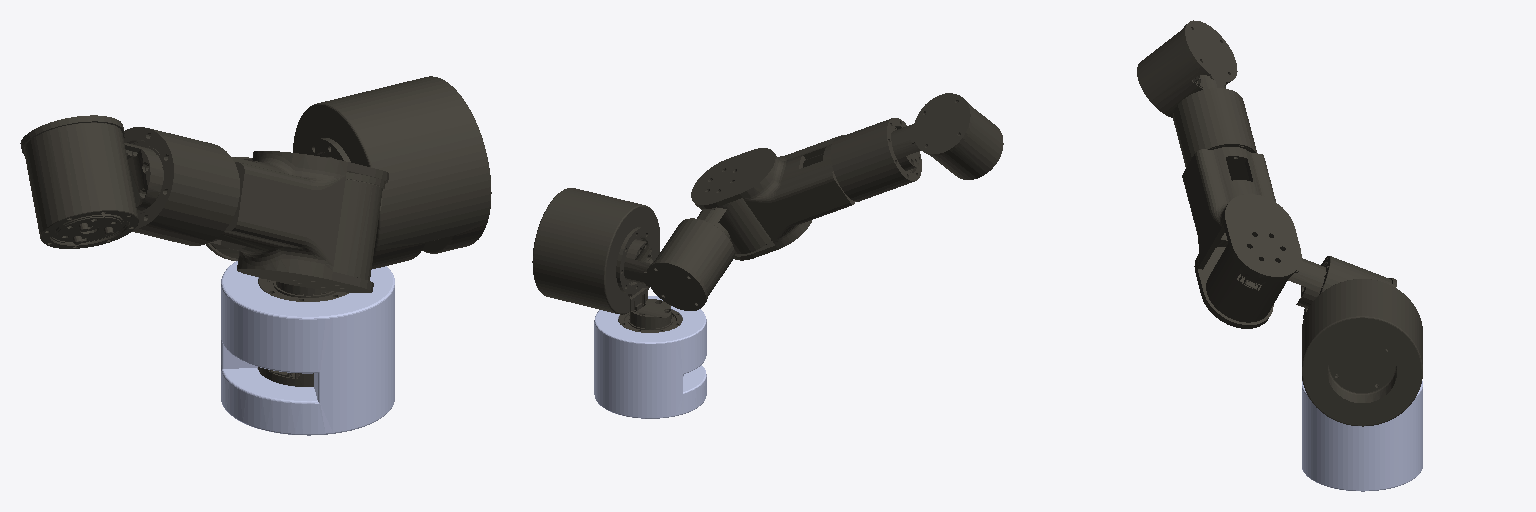
The robot description file, URDF, robot "arm_urdf":
<?xml version="1.0" encoding="utf-8"?>
<!-- This URDF was automatically created by SolidWorks to URDF Exporter! Originally created by Stephen Brawner (brawner@gmail.com) 
     Commit Version: 1.6.0-4-g7f85cfe  Build Version: 1.6.7995.38578
     For more information, please see http://wiki.ros.org/sw_urdf_exporter -->
<robot
  name="arm_urdf">
  <link
    name="base_link">
    <inertial>
      <origin
        xyz="0.00165237880691796 0.000653236412099384 0.0140338323066459"
        rpy="0 0 0" />
      <mass
        value="0.192076018150614" />
      <inertia
        ixx="0.000164377546633951"
        ixy="2.93419490444159E-06"
        ixz="1.80426013043874E-06"
        iyy="0.000158115404846357"
        iyz="7.13271978257934E-07"
        izz="0.00020177724103766" />
    </inertial>
    <visual>
      <origin
        xyz="0 0 0"
        rpy="0 0 0" />
      <geometry>
        <mesh
          filename="package://arm_urdf/meshes/base_link.STL" />
      </geometry>
      <material
        name="">
        <color
          rgba="0.792156862745098 0.819607843137255 0.933333333333333 1" />
      </material>
    </visual>
    <collision>
      <origin
        xyz="0 0 0"
        rpy="0 0 0" />
      <geometry>
        <mesh
          filename="package://arm_urdf/meshes/base_link.STL" />
      </geometry>
    </collision>
  </link>
  <link
    name="Link1">
    <inertial>
      <origin
        xyz="0.0375506240193476 0.000364828195735439 0.0959634343875544"
        rpy="0 0 0" />
      <mass
        value="0.228387283347503" />
      <inertia
        ixx="0.000216893502309988"
        ixy="-4.88857032629495E-07"
        ixz="-2.65541612913788E-06"
        iyy="0.000172346878866004"
        iyz="2.04673937915496E-06"
        izz="0.000176121251811701" />
    </inertial>
    <visual>
      <origin
        xyz="0 0 0"
        rpy="0 0 0" />
      <geometry>
        <mesh
          filename="package://arm_urdf/meshes/Link1.STL" />
      </geometry>
      <material
        name="">
        <color
          rgba="0.301960784313725 0.290196078431373 0.262745098039216 1" />
      </material>
    </visual>
    <collision>
      <origin
        xyz="0 0 0"
        rpy="0 0 0" />
      <geometry>
        <mesh
          filename="package://arm_urdf/meshes/Link1.STL" />
      </geometry>
    </collision>
  </link>
  <joint
    name="jiont1"
    type="revolute">
    <origin
      xyz="0 0 -0.016"
      rpy="0 0 0" />
    <parent
      link="base_link" />
    <child
      link="Link1" />
    <axis
      xyz="0 0 1" />
    <limit
      lower="-3.14"
      upper="3.14"
      effort="0"
      velocity="0" />
  </joint>
  <link
    name="Link2">
    <inertial>
      <origin
        xyz="0.000889556135252614 -0.00183805777823758 0.0367626591036705"
        rpy="0 0 0" />
      <mass
        value="0.0395784994595645" />
      <inertia
        ixx="1.68401206286516E-05"
        ixy="-1.52726862889466E-07"
        ixz="-3.99643549913033E-07"
        iyy="1.71532185704624E-05"
        iyz="1.10289064164758E-06"
        izz="1.15293056271301E-05" />
    </inertial>
    <visual>
      <origin
        xyz="0 0 0"
        rpy="0 0 0" />
      <geometry>
        <mesh
          filename="package://arm_urdf/meshes/Link2.STL" />
      </geometry>
      <material
        name="">
        <color
          rgba="0.301960784313725 0.290196078431373 0.262745098039216 1" />
      </material>
    </visual>
    <collision>
      <origin
        xyz="0 0 0"
        rpy="0 0 0" />
      <geometry>
        <mesh
          filename="package://arm_urdf/meshes/Link2.STL" />
      </geometry>
    </collision>
  </link>
  <joint
    name="joint2"
    type="revolute">
    <origin
      xyz="0.0585 0 0.10325"
      rpy="3.1416 1.5708 0" />
    <parent
      link="Link1" />
    <child
      link="Link2" />
    <axis
      xyz="0 0 -1" />
    <limit
      lower="-3.14"
      upper="3.14"
      effort="0"
      velocity="0" />
  </joint>
  <link
    name="Link3">
    <inertial>
      <origin
        xyz="0.0019539017454888 -5.38647109620399E-05 0.0367626304930365"
        rpy="0 0 0" />
      <mass
        value="0.0395784475416132" />
      <inertia
        ixx="1.71995639997688E-05"
        ixy="-3.05931783938438E-09"
        ixz="-1.22000157839919E-06"
        iyy="1.67937509147446E-05"
        iyz="-3.36844379745023E-08"
        izz="1.15292960295111E-05" />
    </inertial>
    <visual>
      <origin
        xyz="0 0 0"
        rpy="0 0 0" />
      <geometry>
        <mesh
          filename="package://arm_urdf/meshes/Link3.STL" />
      </geometry>
      <material
        name="">
        <color
          rgba="0.301960784313725 0.290196078431373 0.262745098039216 1" />
      </material>
    </visual>
    <collision>
      <origin
        xyz="0 0 0"
        rpy="0 0 0" />
      <geometry>
        <mesh
          filename="package://arm_urdf/meshes/Link3.STL" />
      </geometry>
    </collision>
  </link>
  <joint
    name="joint3"
    type="revolute">
    <origin
      xyz="0.0044805 -0.010591 0.087253"
      rpy="1.5708 0.37647 -2.7414" />
    <parent
      link="Link2" />
    <child
      link="Link3" />
    <axis
      xyz="0 0 -1" />
    <limit
      lower="-3.14"
      upper="3.14"
      effort="0"
      velocity="0" />
  </joint>
  <link
    name="Link4">
    <inertial>
      <origin
        xyz="-0.0363476210360283 2.07744264722198E-05 0.0218296169855355"
        rpy="0 0 0" />
      <mass
        value="0.102586319253978" />
      <inertia
        ixx="5.60340448159623E-05"
        ixy="-3.13867434866366E-09"
        ixz="5.18318700326504E-08"
        iyy="9.879905254637E-05"
        iyz="3.3605231112231E-08"
        izz="9.26016951462404E-05" />
    </inertial>
    <visual>
      <origin
        xyz="0 0 0"
        rpy="0 0 0" />
      <geometry>
        <mesh
          filename="package://arm_urdf/meshes/Link4.STL" />
      </geometry>
      <material
        name="">
        <color
          rgba="0.301960784313725 0.290196078431373 0.262745098039216 1" />
      </material>
    </visual>
    <collision>
      <origin
        xyz="0 0 0"
        rpy="0 0 0" />
      <geometry>
        <mesh
          filename="package://arm_urdf/meshes/Link4.STL" />
      </geometry>
    </collision>
  </link>
  <joint
    name="joint4"
    type="revolute">
    <origin
      xyz="0.0115 0 0.087253"
      rpy="1.5708 0.37626 -1.5708" />
    <parent
      link="Link3" />
    <child
      link="Link4" />
    <axis
      xyz="0 0 -1" />
    <limit
      lower="-3.14"
      upper="3.14"
      effort="0"
      velocity="0" />
  </joint>
  <link
    name="Link5">
    <inertial>
      <origin
        xyz="0.00195392305181297 -5.39016601637243E-05 0.0367625910939153"
        rpy="0 0 0" />
      <mass
        value="0.0395783821869079" />
      <inertia
        ixx="1.71995654875121E-05"
        ixy="-3.08428678491661E-09"
        ixz="-1.21999326526102E-06"
        iyy="1.67937221299546E-05"
        iyz="-3.37009672912755E-08"
        izz="1.15292796455694E-05" />
    </inertial>
    <visual>
      <origin
        xyz="0 0 0"
        rpy="0 0 0" />
      <geometry>
        <mesh
          filename="package://arm_urdf/meshes/Link5.STL" />
      </geometry>
      <material
        name="">
        <color
          rgba="0.301960784313725 0.290196078431373 0.262745098039216 1" />
      </material>
    </visual>
    <collision>
      <origin
        xyz="0 0 0"
        rpy="0 0 0" />
      <geometry>
        <mesh
          filename="package://arm_urdf/meshes/Link5.STL" />
      </geometry>
    </collision>
  </link>
  <joint
    name="joint5"
    type="revolute">
    <origin
      xyz="-0.0899999999980462 0 0.0204999999959265"
      rpy="1.5707963267949 1.1618634120559 -1.57079632679489" />
    <parent
      link="Link4" />
    <child
      link="Link5" />
    <axis
      xyz="0 0 1" />
    <limit
      lower="-3.14"
      upper="3.14"
      effort="0"
      velocity="0" />
  </joint>
  <link
    name="Link6">
    <inertial>
      <origin
        xyz="-0.000104407240438059 -9.41948890727309E-05 0.0251944930913252"
        rpy="0 0 0" />
      <mass
        value="0.0290550461188644" />
      <inertia
        ixx="1.15132217412787E-05"
        ixy="-6.03219682385138E-09"
        ixz="-4.47079285606331E-08"
        iyy="1.15272192627163E-05"
        iyz="-4.26187441641411E-08"
        izz="9.8267030846922E-06" />
    </inertial>
    <visual>
      <origin
        xyz="0 0 0"
        rpy="0 0 0" />
      <geometry>
        <mesh
          filename="package://arm_urdf/meshes/Link6.STL" />
      </geometry>
      <material
        name="">
        <color
          rgba="0.301960784313725 0.290196078431373 0.262745098039216 1" />
      </material>
    </visual>
    <collision>
      <origin
        xyz="0 0 0"
        rpy="0 0 0" />
      <geometry>
        <mesh
          filename="package://arm_urdf/meshes/Link6.STL" />
      </geometry>
    </collision>
  </link>
  <joint
    name="joint6"
    type="revolute">
    <origin
      xyz="0.0115 0 0.087253"
      rpy="1.5708 -1.0088 -1.5708" />
    <parent
      link="Link5" />
    <child
      link="Link6" />
    <axis
      xyz="0 0 -1" />
    <limit
      lower="-3.14"
      upper="3.14"
      effort="0"
      velocity="0" />
  </joint>
</robot>

--- Render facts (derived) ---
Views: 3 orthographic renders of the robot side by side, from view 1: azimuth 30°, elevation 25°; view 2: azimuth 150°, elevation 25°; view 3: azimuth 270°, elevation 25°.
Robot: arm_urdf — 7 links, 6 joints (6 revolute); root link base_link; default pose: every joint at zero.
Links seen in each view (by area): view 1: Link4, Link1, base_link, Link6, Link5; view 2: Link4, Link1, base_link, Link5, Link3, Link2, Link6; view 3: Link4, Link1, base_link, Link6, Link5, Link3.
Link boxes in pixels (x1=…): Link4: x1=123, y1=127, x2=388, y2=292; Link1: x1=258, y1=76, x2=491, y2=386; base_link: x1=221, y1=261, x2=394, y2=435; Link6: x1=24, y1=122, x2=138, y2=248; Link5: x1=20, y1=115, x2=168, y2=215; Link4: x1=691, y1=118, x2=921, y2=260; Link1: x1=532, y1=188, x2=682, y2=332; base_link: x1=594, y1=296, x2=706, y2=418; Link5: x1=891, y1=93, x2=972, y2=172; Link3: x1=654, y1=201, x2=734, y2=295; Link2: x1=624, y1=236, x2=707, y2=310; Link6: x1=925, y1=105, x2=1003, y2=179; Link4: x1=1173, y1=88, x2=1301, y2=328; Link1: x1=1302, y1=279, x2=1422, y2=426; base_link: x1=1302, y1=381, x2=1422, y2=491; Link6: x1=1137, y1=29, x2=1203, y2=117; Link5: x1=1182, y1=20, x2=1253, y2=152; Link3: x1=1229, y1=248, x2=1391, y2=318.
Bounding box of the posed robot: 0.2889 × 0.1883 × 0.2336 m (x, y, z).
7 mesh visuals loaded from 7 distinct referenced files (7 binary STL).
